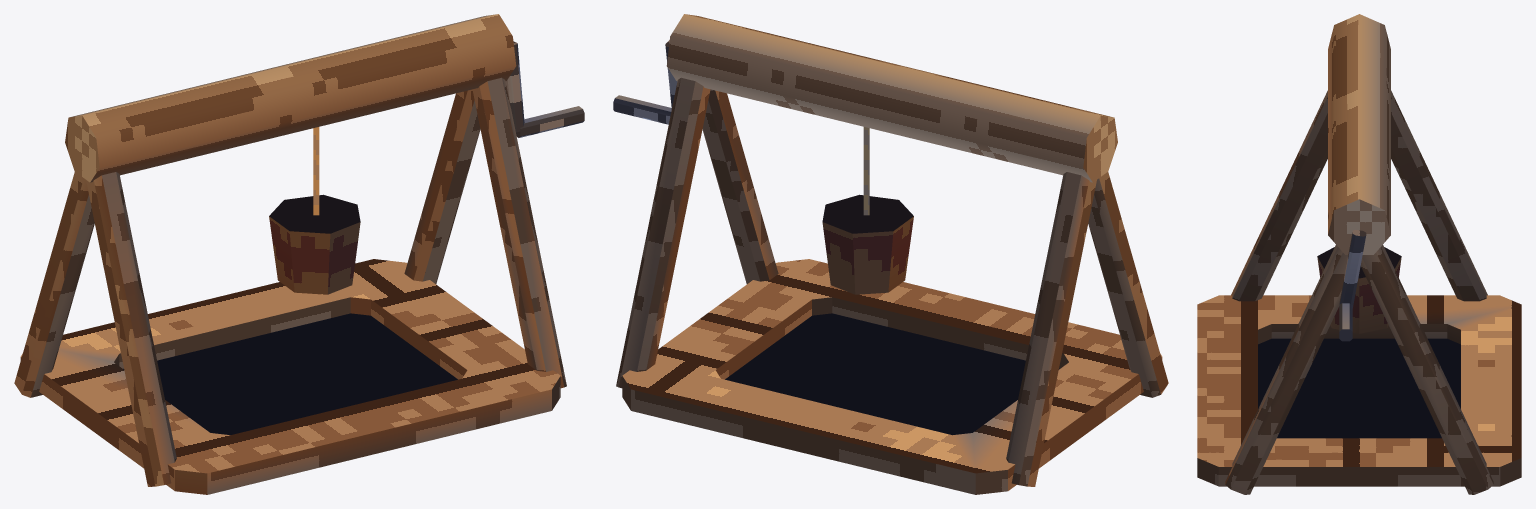
File: wmine.windlass.glb
3 views of the same model, side by side, from view 1: azimuth 30°, elevation 25°; view 2: azimuth 150°, elevation 25°; view 3: azimuth 270°, elevation 25° (orthographic). The views are drawn at different scales.
Visible parts, largest first — view 1: kit_collar, kit_uprights, kit_drum, kit_card_hole, kit_bucket, kit_crank, kit_rope; view 2: kit_collar, kit_uprights, kit_drum, kit_card_hole, kit_bucket, kit_crank, kit_rope; view 3: kit_collar, kit_uprights, kit_card_hole, kit_drum, kit_bucket, kit_crank.
Part boxes in pixels (x1=…): kit_collar: x1=20, y1=259, x2=560, y2=494; kit_uprights: x1=14, y1=77, x2=566, y2=486; kit_drum: x1=65, y1=14, x2=516, y2=182; kit_card_hole: x1=123, y1=313, x2=457, y2=434; kit_bucket: x1=269, y1=194, x2=360, y2=294; kit_crank: x1=505, y1=41, x2=584, y2=137; kit_rope: x1=313, y1=127, x2=319, y2=215; kit_collar: x1=622, y1=259, x2=1162, y2=494; kit_uprights: x1=616, y1=77, x2=1168, y2=486; kit_drum: x1=666, y1=14, x2=1117, y2=182; kit_card_hole: x1=725, y1=313, x2=1059, y2=435; kit_bucket: x1=822, y1=194, x2=913, y2=294; kit_crank: x1=613, y1=40, x2=677, y2=124; kit_rope: x1=863, y1=127, x2=869, y2=215; kit_collar: x1=1197, y1=295, x2=1521, y2=486; kit_uprights: x1=1225, y1=90, x2=1493, y2=494; kit_card_hole: x1=1258, y1=338, x2=1460, y2=438; kit_drum: x1=1328, y1=14, x2=1390, y2=254; kit_bucket: x1=1317, y1=247, x2=1401, y2=333; kit_crank: x1=1339, y1=230, x2=1366, y2=341.
Bounding box in the file's own units: 1.91 × 1.22 × 1.2.
7 materials, 7 textured.
